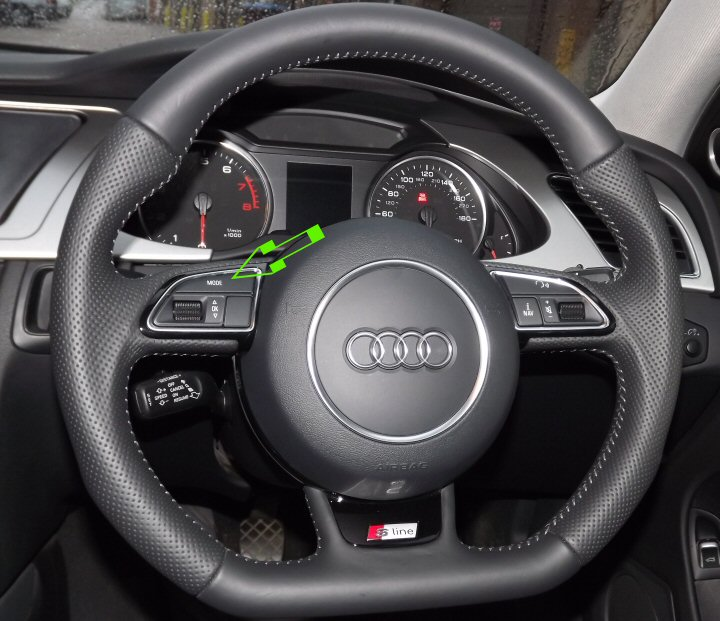audi: (337, 324, 461, 381)
